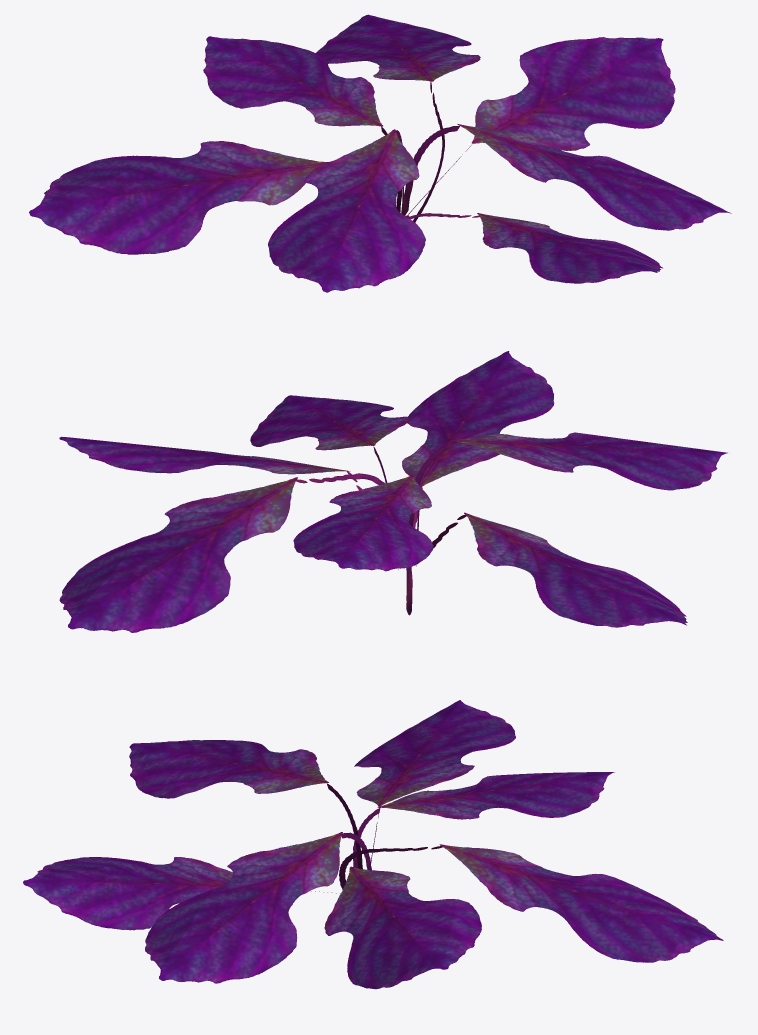
The model's file is Row Root C6.fbx.
3 views of the same model, one above another, from view 1: azimuth 30°, elevation 25°; view 2: azimuth 150°, elevation 25°; view 3: azimuth 270°, elevation 25° (orthographic). The views are drawn at different scales.
Parts seen in each view (by area): view 1: Row Root C6; view 2: Row Root C6; view 3: Row Root C6.
Part boxes in pixels (bbox=[...]): Row Root C6: bbox=[29, 14, 731, 292]; Row Root C6: bbox=[59, 351, 727, 632]; Row Root C6: bbox=[23, 700, 723, 989].
Bounding box in the file's own units: 215 × 54.19 × 213.
